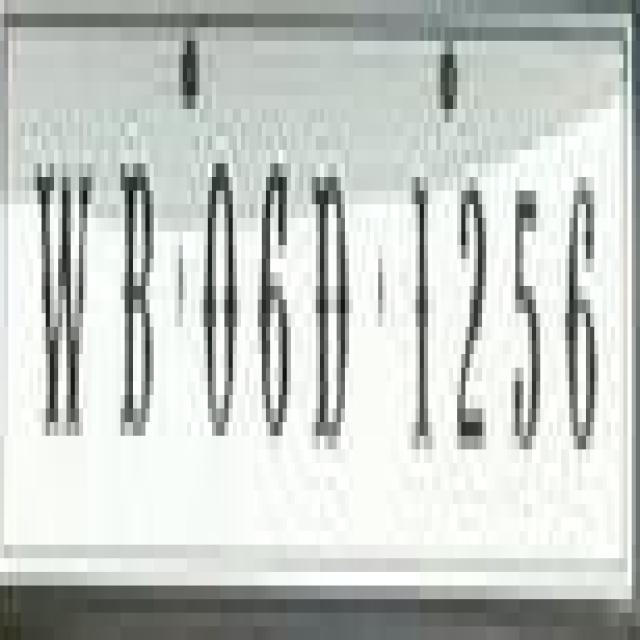license_plate: (4, 27, 611, 586)
